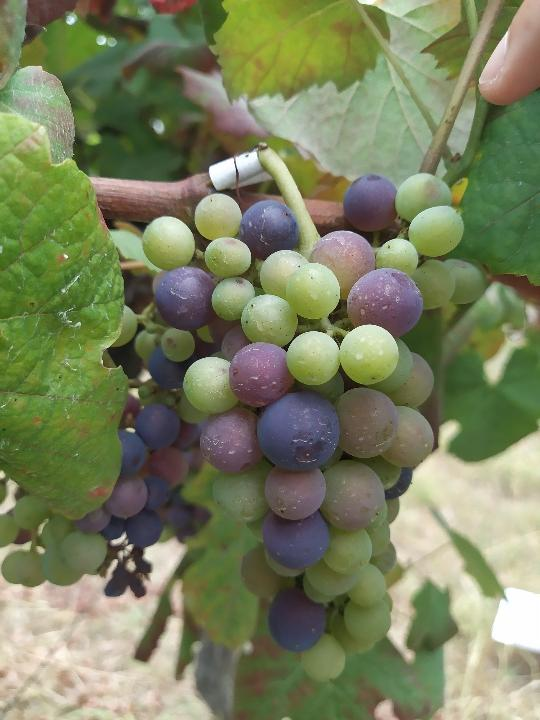grape: (136, 169, 467, 686)
